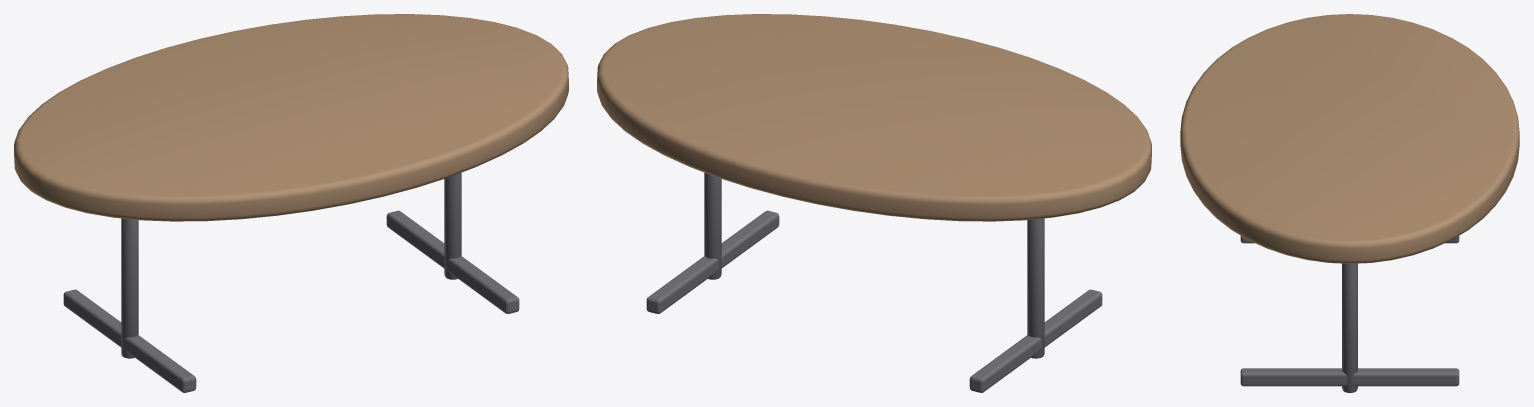
Rendered from mesa-centro.gltf.
3 renders of one model, left to right at view 1: azimuth 30°, elevation 25°; view 2: azimuth 150°, elevation 25°; view 3: azimuth 270°, elevation 25°, orthographic. The views are drawn at different scales.
Parts seen in each view (by area): view 1: cubierta, travesano-1, travesano1, arco-1, arco1; view 2: cubierta, travesano-1, travesano1, arco-1, arco1; view 3: cubierta, travesano1, arco1.
Boxes of the visible parts, x1,y1,x2,y2 form: cubierta: [14, 14, 568, 221]; travesano-1: [63, 289, 196, 392]; travesano1: [386, 210, 519, 313]; arco-1: [121, 218, 138, 358]; arco1: [444, 172, 461, 279]; cubierta: [597, 14, 1151, 221]; travesano-1: [969, 289, 1102, 392]; travesano1: [646, 210, 779, 313]; arco-1: [1027, 218, 1044, 358]; arco1: [704, 172, 721, 279]; cubierta: [1180, 14, 1519, 263]; travesano1: [1240, 368, 1459, 386]; arco1: [1342, 263, 1357, 392].
Bounding box in the file's own units: 1.1 × 0.425 × 0.682.
